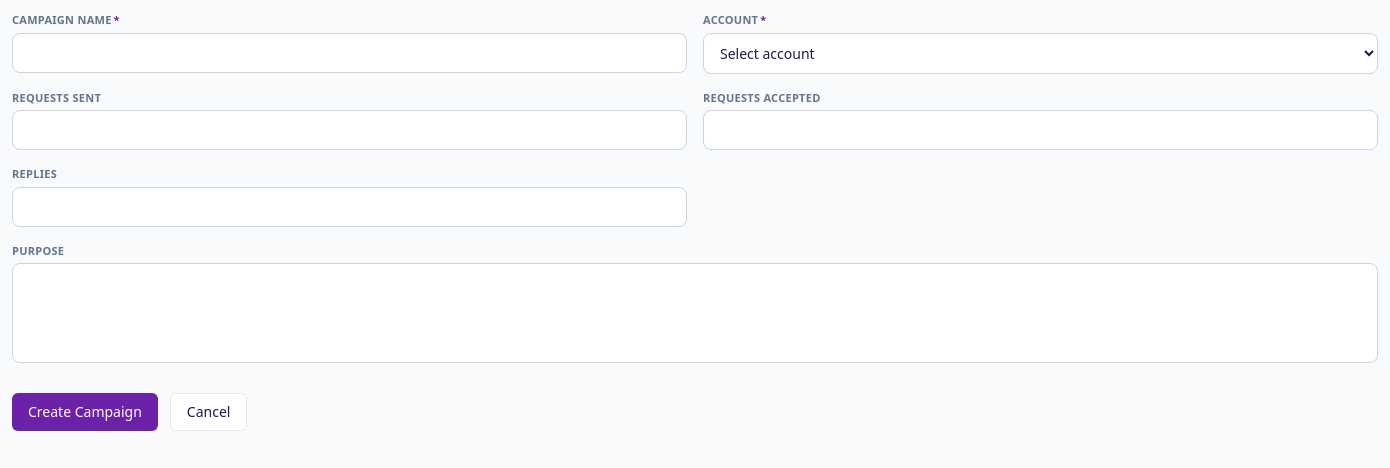
Test: CampaignForm › shows validation error when Campaign Name is empty
Click the button "Create Campaign". click: (85, 412)
box: [12,393,158,431]
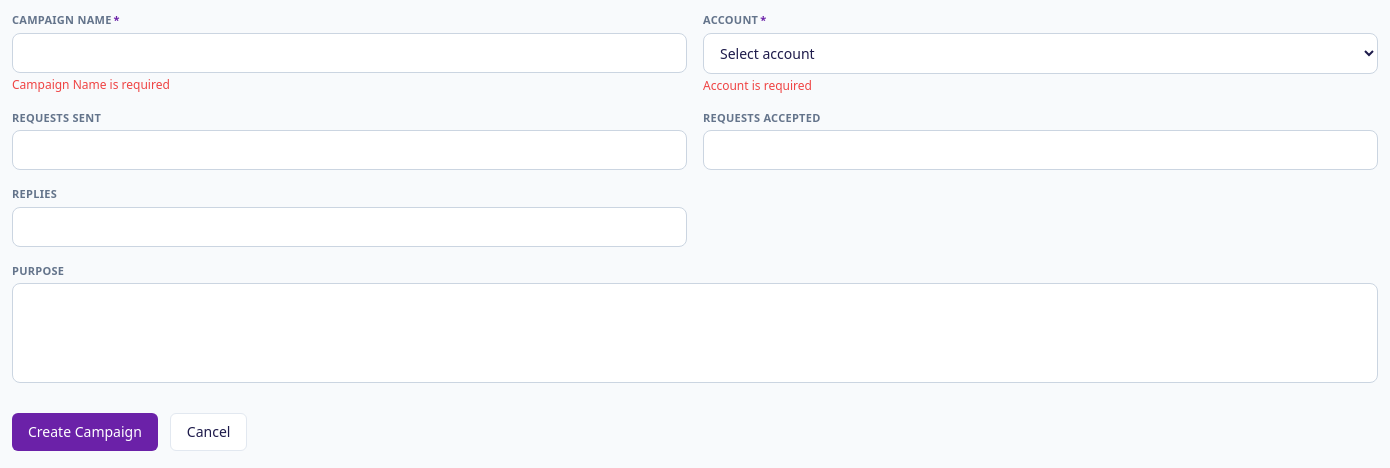
expect the text "Campaign Name is required" is shown: met, box [12,76,170,92]
